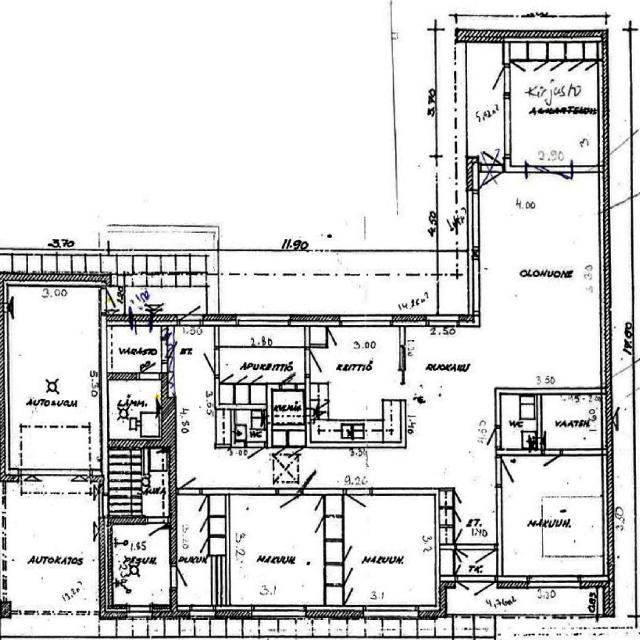door: (471, 576, 495, 614), (190, 348, 220, 376), (480, 66, 511, 93), (346, 488, 370, 522), (496, 458, 526, 484), (526, 165, 550, 197), (278, 488, 300, 520), (550, 165, 572, 197), (180, 291, 200, 326), (300, 464, 322, 495), (139, 349, 160, 381), (179, 464, 200, 496), (472, 544, 494, 574), (305, 350, 332, 374), (102, 288, 130, 310), (169, 566, 197, 588), (147, 517, 167, 547), (246, 442, 265, 468), (478, 428, 502, 448), (458, 575, 472, 604), (544, 450, 560, 474), (457, 544, 472, 567), (281, 368, 295, 390)
